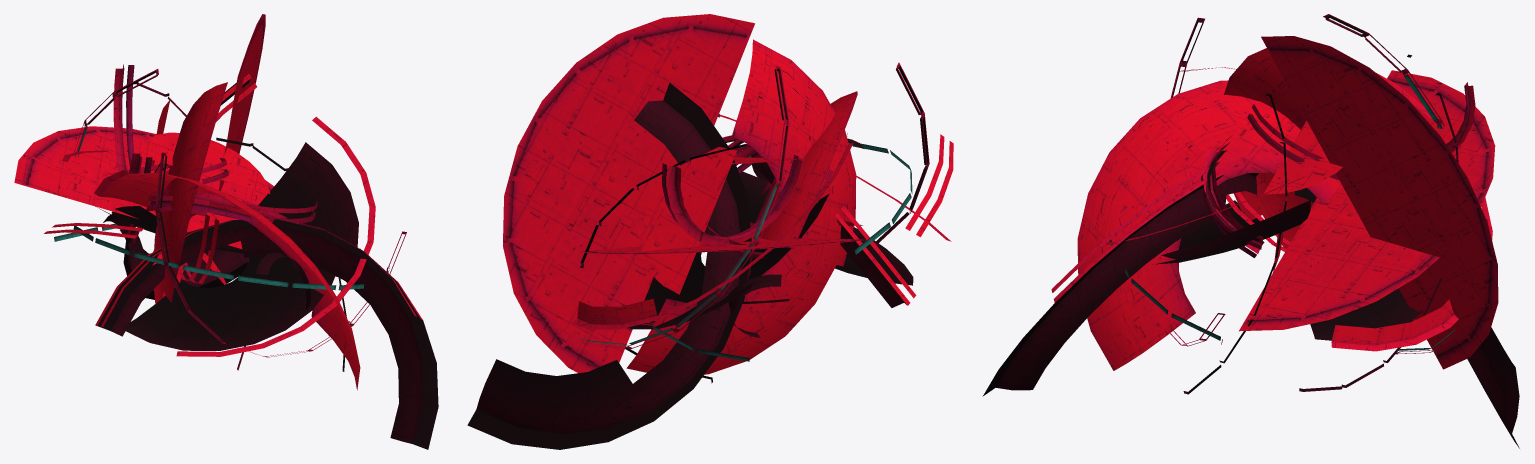
The model's file is MonsterB_Die5.obj.
3 views of the same model, side by side, from view 1: azimuth 30°, elevation 25°; view 2: azimuth 150°, elevation 25°; view 3: azimuth 270°, elevation 25° (orthographic). The views are drawn at different scales.
Parts seen in each view (by area): view 1: Sphere001; view 2: Sphere001; view 3: Sphere001.
Boxes of the visible parts, bbox=[...] form: Sphere001: bbox=[14, 14, 438, 449]; Sphere001: bbox=[467, 14, 953, 449]; Sphere001: bbox=[982, 14, 1519, 448].
Bounding box in the file's own units: 210 × 208 × 277.
Materials: 1 (1 with a texture image).
